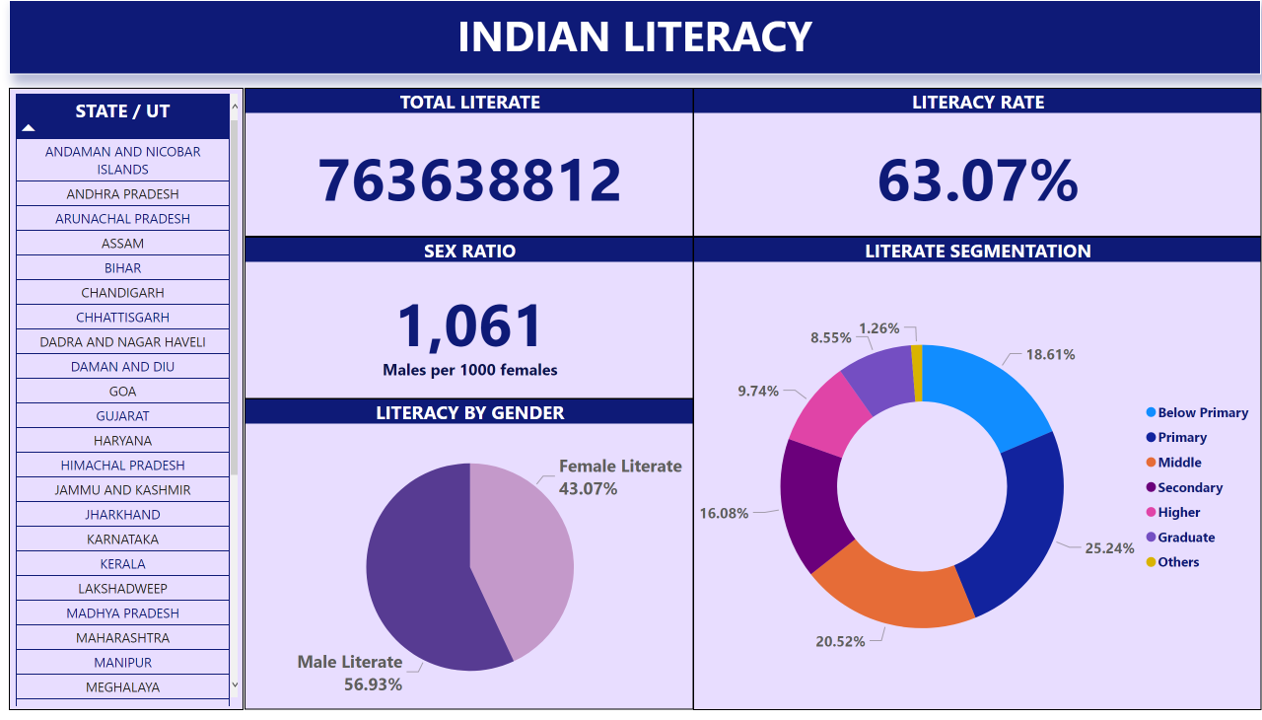

Layout of this report page (visuals, bound fields, positions):
{"tool":"powerbi","page":{"name":"Indian Literacy","canvas":[1280,720],"ordinal":1},"visuals":[{"type":"textbox","box":[9.4,0,1269.9,75.6],"z":0},{"type":"pieChart","title":"LITERACY BY GENDER","fields":{"Y":["Sum(india-districts-census-2011.Female_Literate)","Sum(india-districts-census-2011.Male_Literate)"]},"box":[247.6,404.4,455.4,315.6],"z":1000},{"type":"tableEx","fields":{"Values":["india-districts-census-2011.State name"]},"box":[9.4,88.8,238.1,631.2],"z":2000},{"type":"card","title":"TOTAL LITERATE","fields":{"Values":["Sum(india-districts-census-2011.Literate)"]},"box":[247.6,88.8,455.4,151.2],"z":3000},{"type":"card","title":"LITERACY RATE","fields":{"Values":["india-districts-census-2011.literacy rate"]},"box":[703,88.8,576.4,151.2],"z":4000},{"type":"donutChart","title":"LITERATE SEGMENTATION","fields":{"Y":["Sum(india-districts-census-2011.Below_Primary_Education)","Sum(india-districts-census-2011.Primary_Education)","Sum(india-districts-census-2011.Middle_Education)","Sum(india-districts-census-2011.Secondary_Education)","Sum(india-districts-census-2011.Higher_Education)","Sum(india-districts-census-2011.Graduate_Education)","Sum(india-districts-census-2011.Other_Education)"]},"box":[703,240,576.4,480],"z":5000},{"type":"card","title":"SEX RATIO","fields":{"Values":["india-districts-census-2011.sex ratio"]},"box":[247.6,240,455.4,164.4],"z":6000}]}

Visuals, with their boxes in screenshot pixels (x1, y1, x2, y2), scaled from the page's 1280x720 canvas onto the 1262x720 screenshot:
textbox: 9:0:1261:76
"LITERACY BY GENDER" pieChart: 244:404:693:719
tableEx - india-districts-census-2011.State name: 9:89:244:719
"TOTAL LITERATE" card: 244:89:693:240
"LITERACY RATE" card: 693:89:1261:240
"LITERATE SEGMENTATION" donutChart: 693:240:1261:719
"SEX RATIO" card: 244:240:693:404
